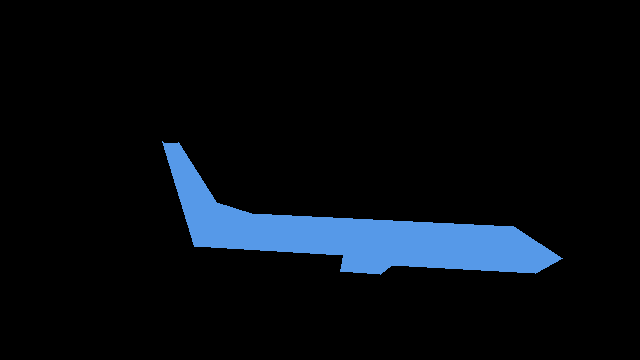Airplane: (162, 141, 562, 274)
